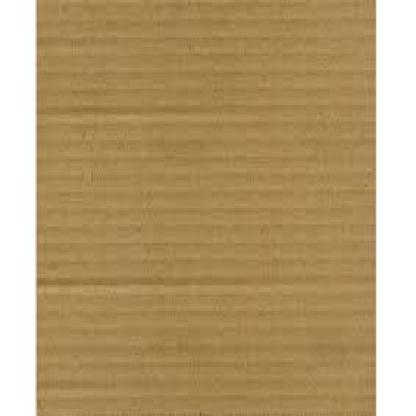CARDBOARD: (35, 0, 374, 414)
